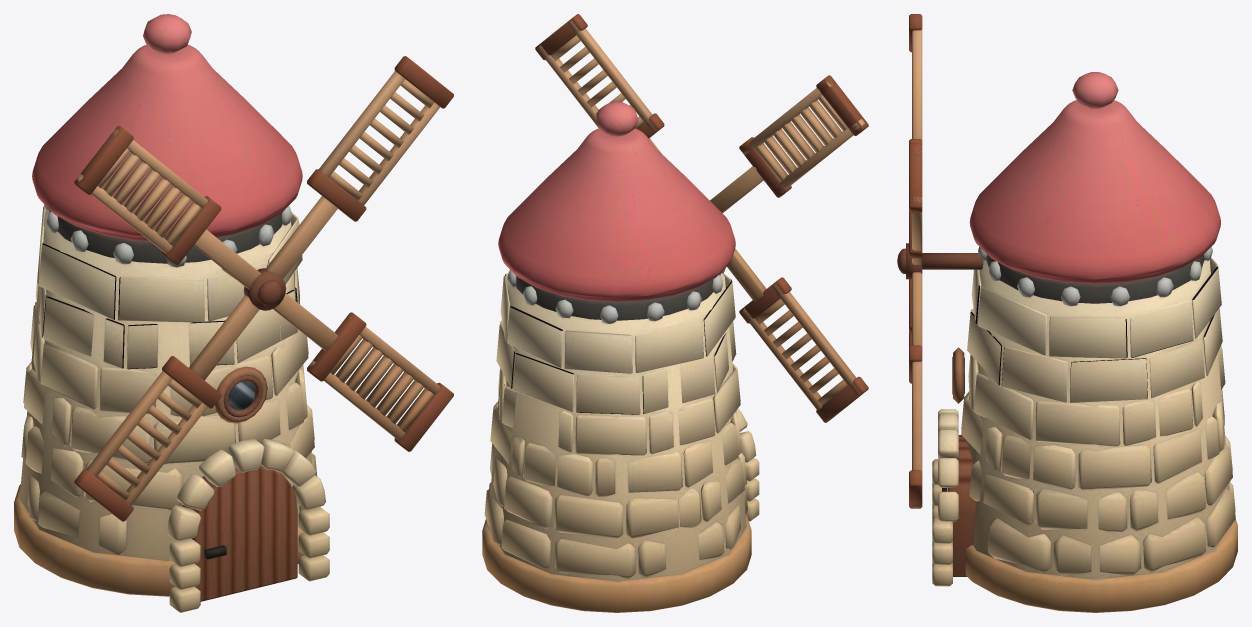
The model's file is mill_4_high.glb.
3 renders of one model, left to right at view 1: azimuth 30°, elevation 25°; view 2: azimuth 150°, elevation 25°; view 3: azimuth 270°, elevation 25°, orthographic. The views are drawn at different scales.
Parts seen in each view (by area): view 1: mill_4, sails; view 2: mill_4, sails; view 3: mill_4, sails.
Part boxes in pixels (x1,y1,x2,y2): mill_4: (14,14,329,612); sails: (74,56,453,521); mill_4: (482,101,759,612); sails: (535,14,868,422); mill_4: (922,72,1237,612); sails: (897,14,922,508).
Size of the model in its own units: 1.54 by 2.04 by 1.31.
1 material, 1 textured.
